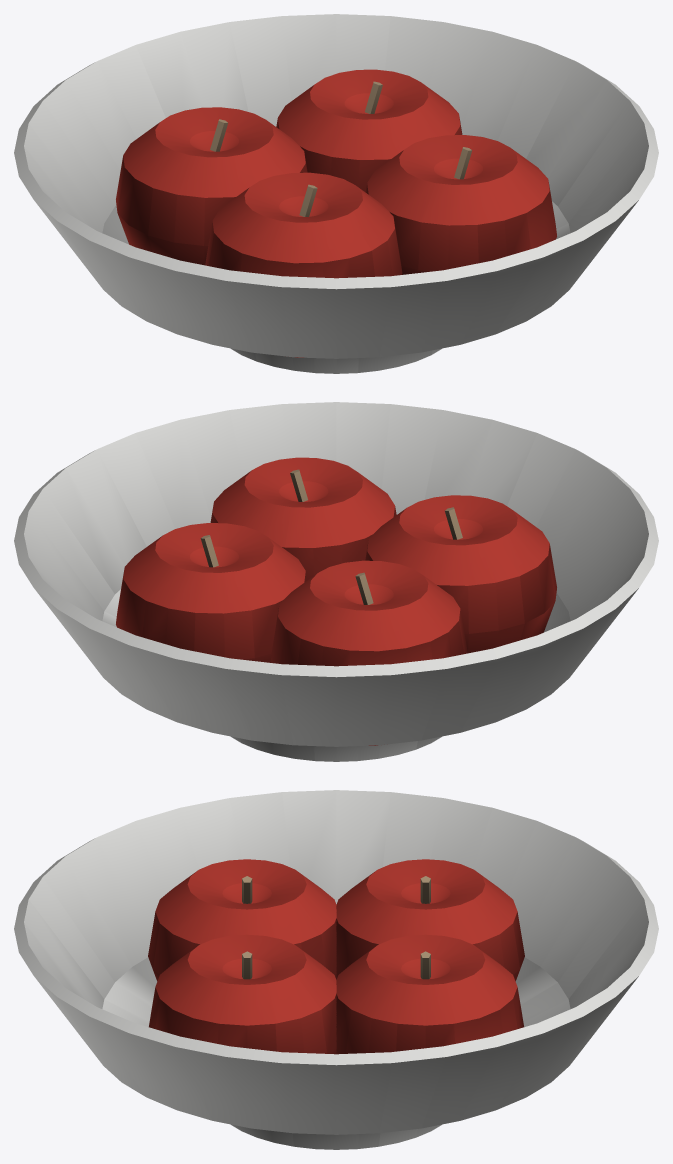
Rendered from fruit_bowl.glb.
3 renders of one model, top to bottom at view 1: azimuth 30°, elevation 25°; view 2: azimuth 150°, elevation 25°; view 3: azimuth 270°, elevation 25°, orthographic.
Visible parts, largest first — view 1: body; view 2: body; view 3: body.
Part boxes in pixels (bbox=[...]): body: bbox=[14, 14, 658, 373]; body: bbox=[14, 402, 658, 761]; body: bbox=[14, 790, 658, 1149].
Size of what is drawn, in the model's own units: 0.26 by 0.0827 by 0.26.
